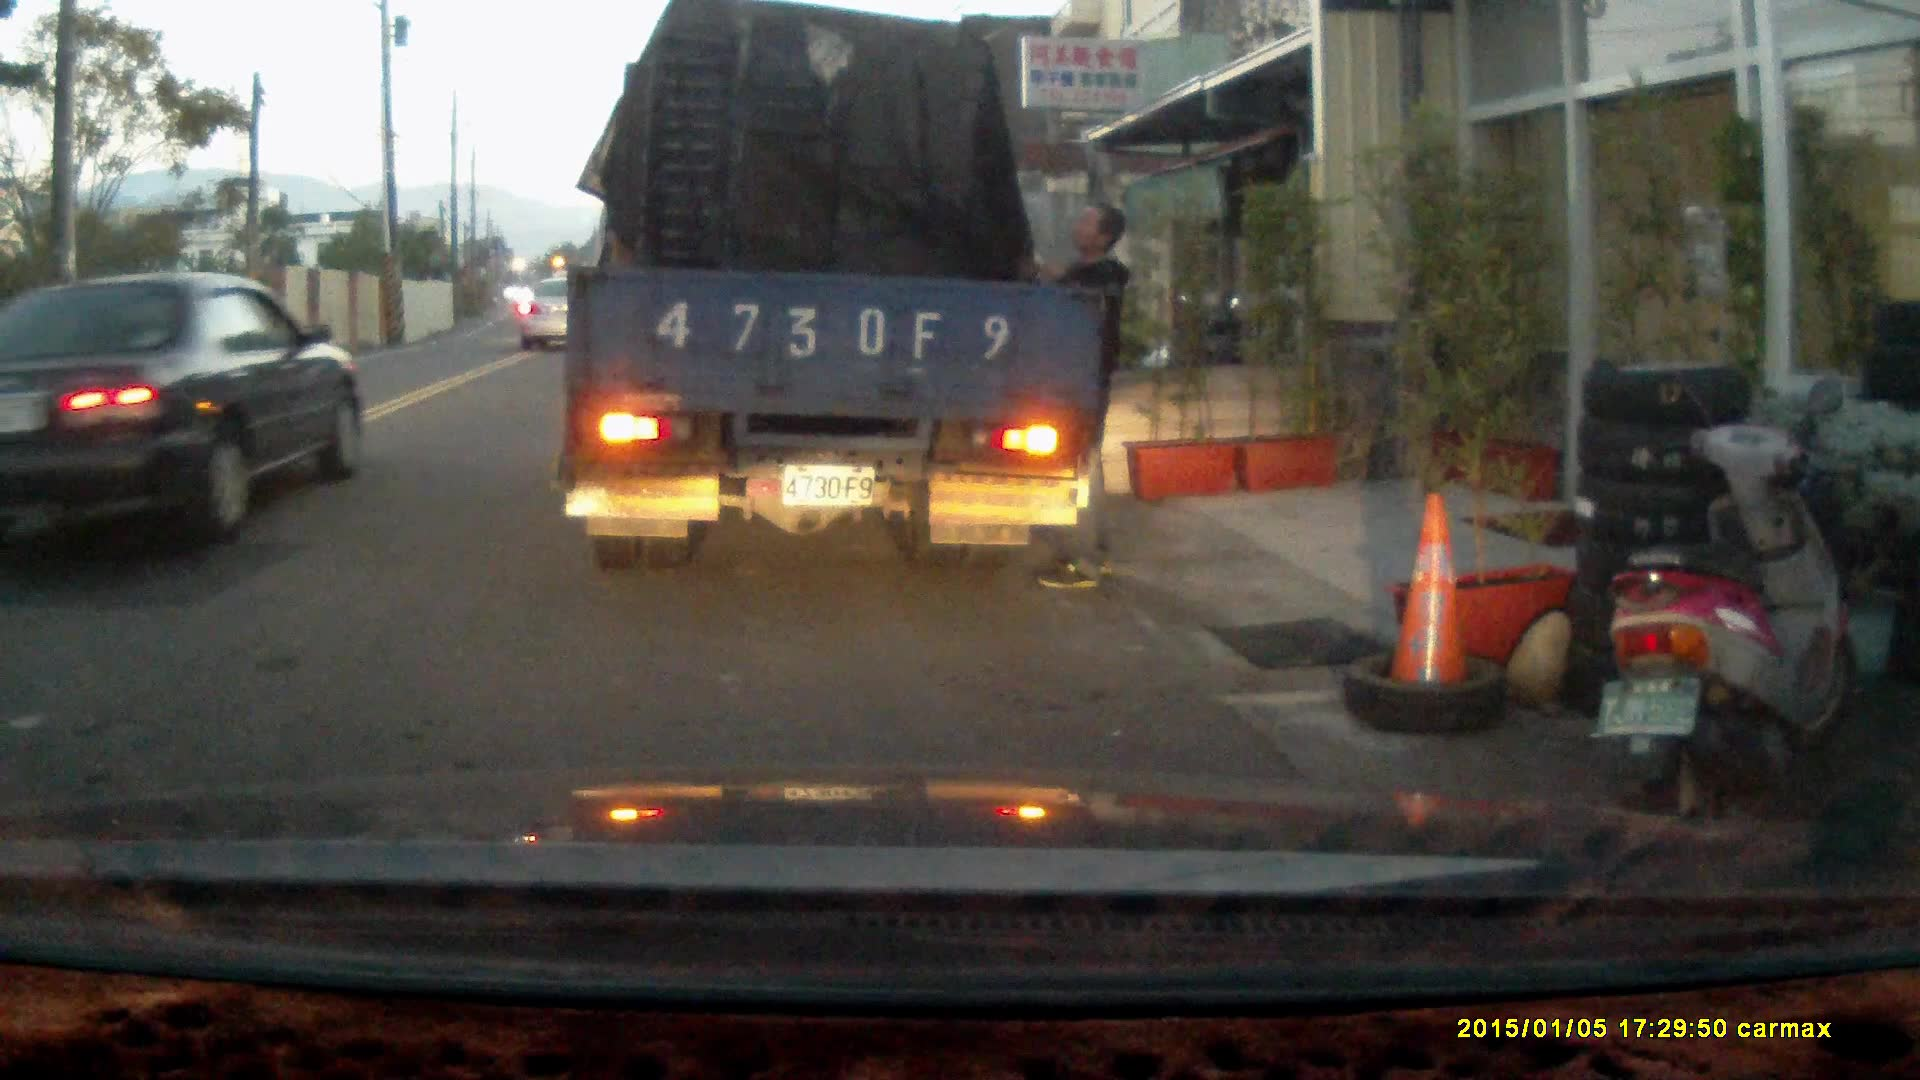pedestrian: (1014, 199, 1131, 590)
vehicle: (565, 23, 1097, 572), (1, 270, 368, 552), (515, 272, 599, 352)
